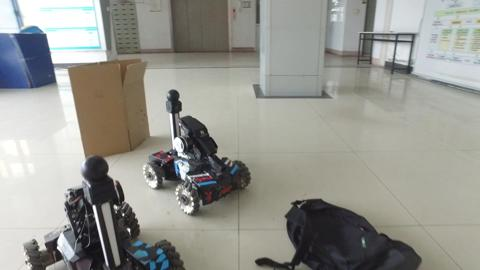box: (68, 58, 142, 155)
chariot: (17, 155, 190, 269), (145, 90, 256, 217)
